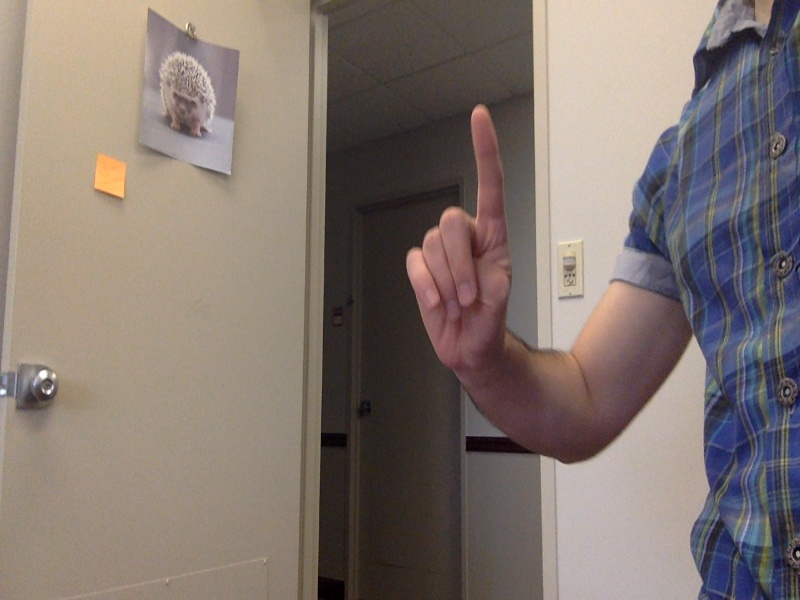1-hand: (403, 100, 514, 376)
